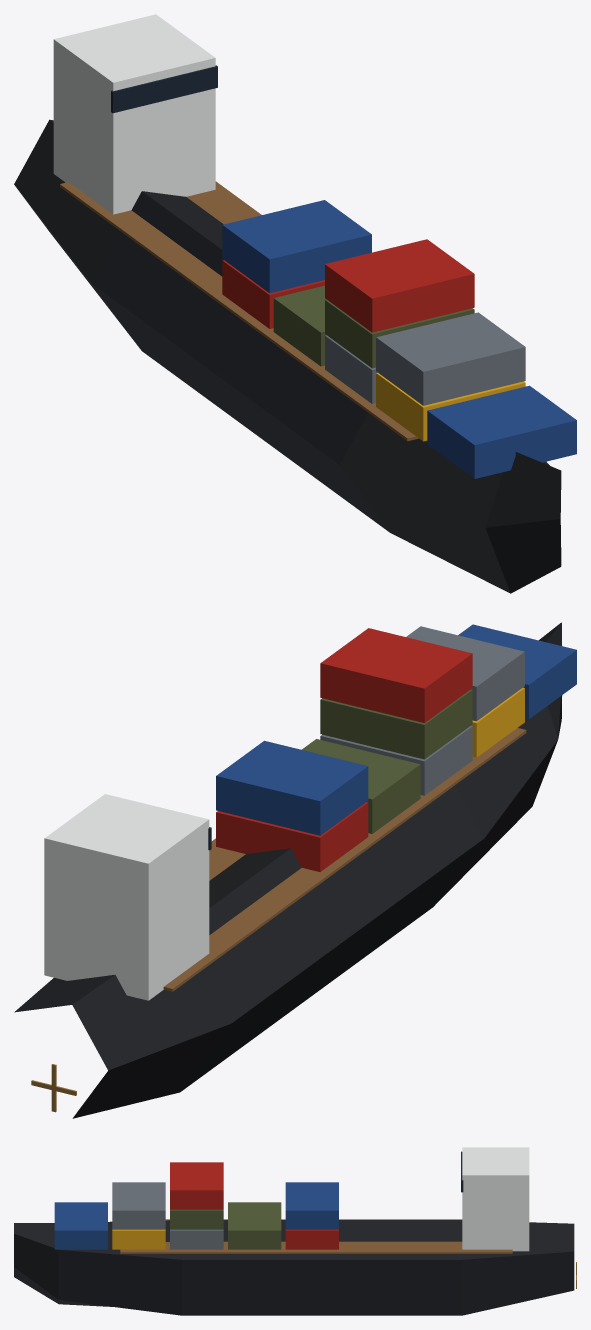
Rendered from veh_naval_merchant_a06_lod1.glb.
3 views of the same model, one above another, from view 1: azimuth 30°, elevation 25°; view 2: azimuth 150°, elevation 25°; view 3: azimuth 270°, elevation 25° (orthographic). The views are drawn at different scales.
Parts seen in each view (by area): view 1: body; view 2: body; view 3: body.
Boxes of the visible parts, left/top/right/bottom form: body: left=14, top=14, right=576, bottom=593; body: left=14, top=622, right=576, bottom=1118; body: left=14, top=1147, right=574, bottom=1315.
Bounding box in the file's own units: 3.9 × 7.71 × 25.33.
